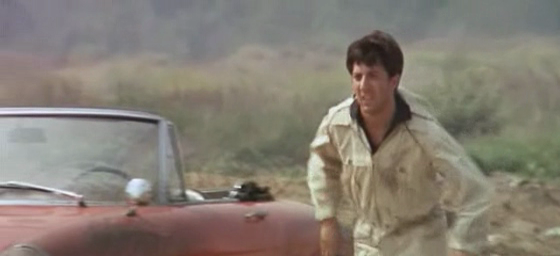face: (352, 66, 384, 113)
ms: (1, 1, 560, 256)
person: (307, 30, 504, 256)
